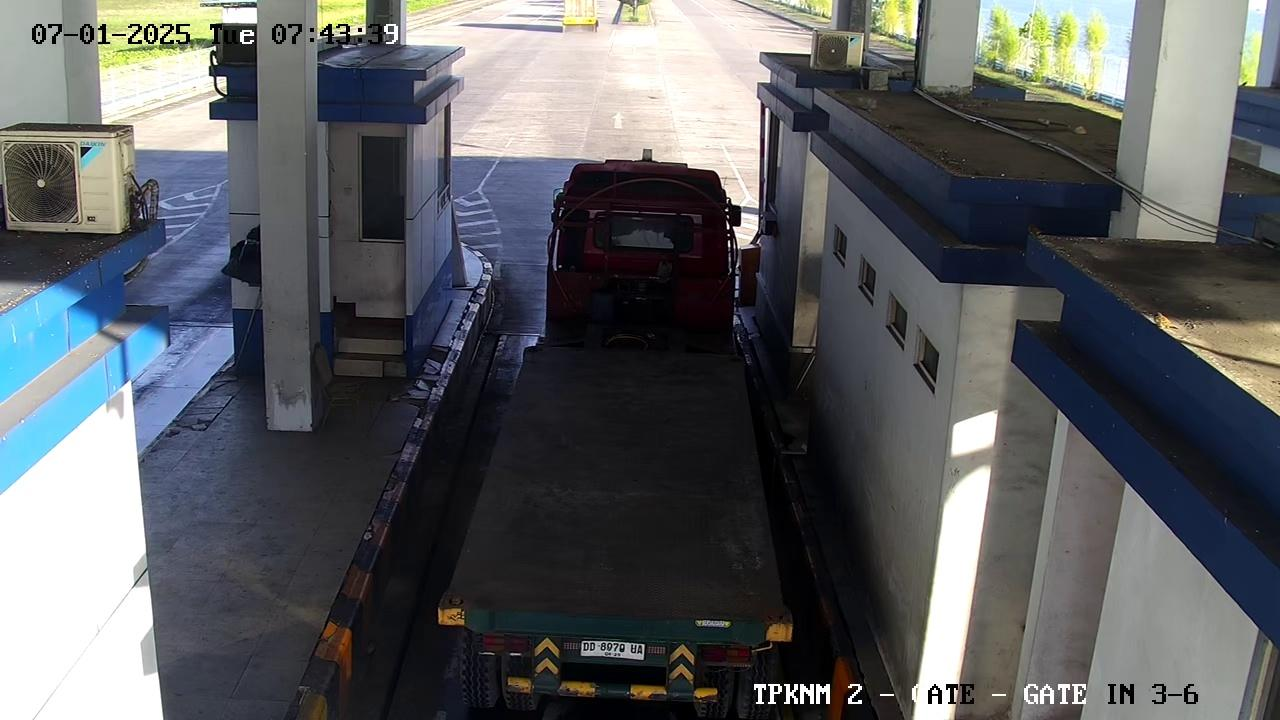plate_number: (558, 634, 675, 685)
